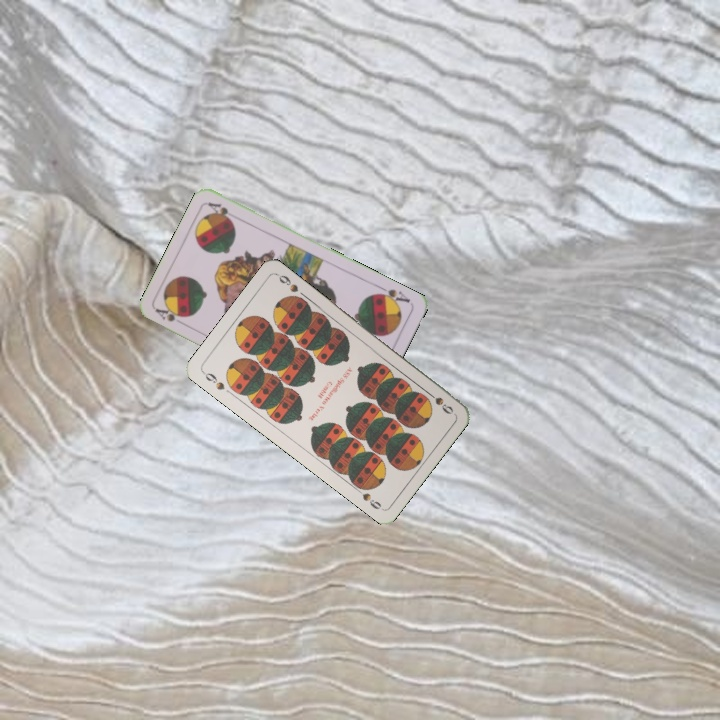S9: (422, 386, 456, 417), (199, 368, 227, 393)
SA: (372, 282, 413, 308), (151, 304, 190, 329)
